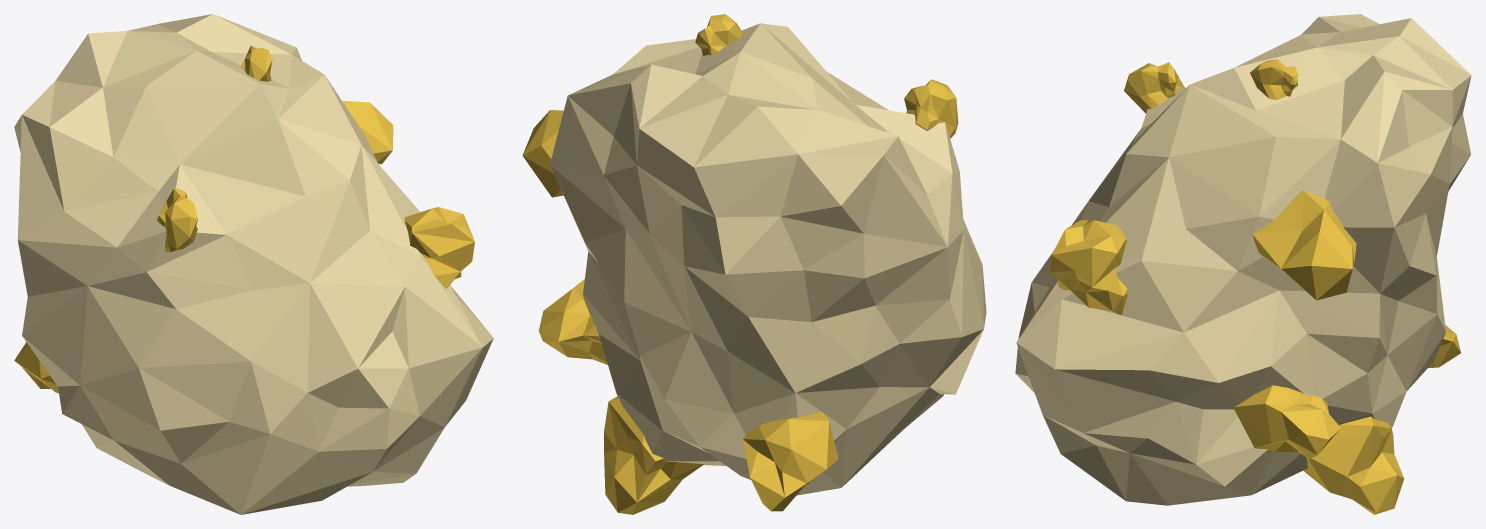
File: MetalOre (23).fbx
3 renders of one model, left to right at view 1: azimuth 30°, elevation 25°; view 2: azimuth 150°, elevation 25°; view 3: azimuth 270°, elevation 25°, orthographic. The views are drawn at different scales.
Parts seen in each view (by area): view 1: Asteroid378; view 2: Asteroid378; view 3: Asteroid378.
Part boxes in pixels (<box>): Asteroid378: <box>14,14,493,514</box>; Asteroid378: <box>522,14,986,514</box>; Asteroid378: <box>1015,14,1471,514</box>.
Size of the model in its own units: 496 by 532 by 502.
